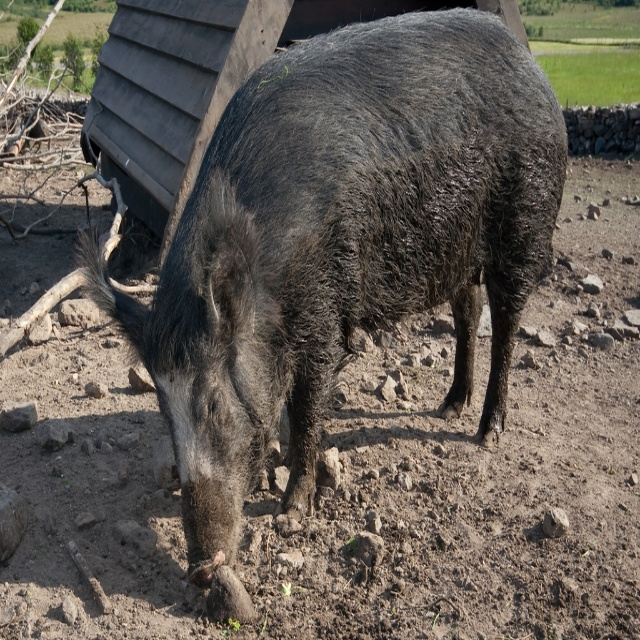Pig: (72, 9, 568, 587)
